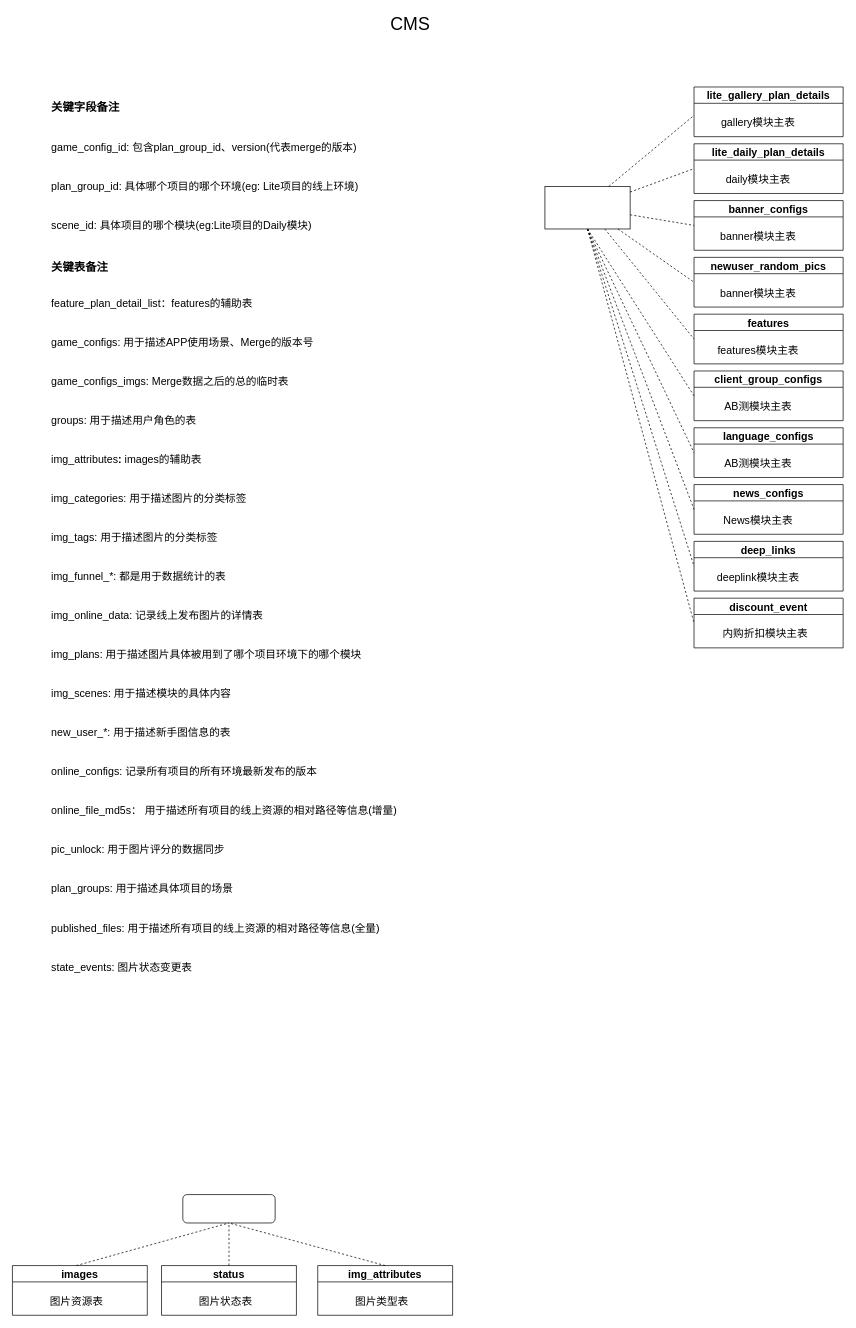
Image size: 856x1328. Some labels were removed from this diagram. The shapes that lost their labels are listed below. From the top down, each one's centre as x and y in pixels, then its label:
the point at 587,207: 各模块主表
the point at 228,1208: 上传资源
